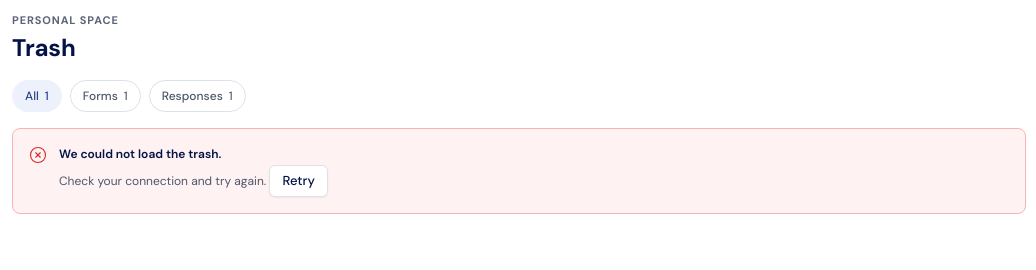
Test: TrashView › another error shows an alert with a working retry
Check: the text "We could not load the trash." is shown, box x1=59 y1=146 x2=221 y2=162
What coordinates should you click on to do the following:
click the button "Retry"
I would click on:
 (299, 181)
Its box is x1=270 y1=165 x2=328 y2=197.
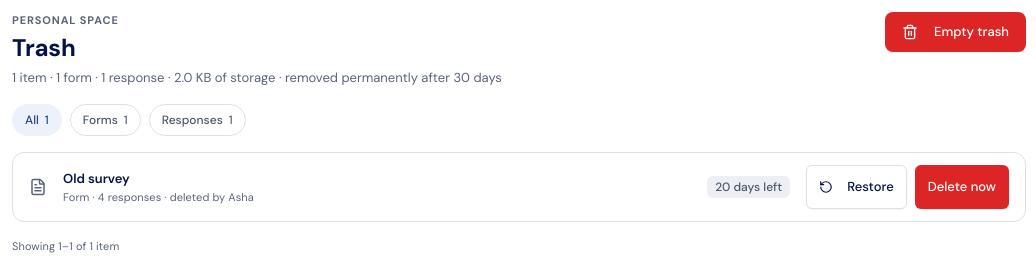
Check: the text "Old survey" is shown, box x1=63 y1=170 x2=130 y2=187
